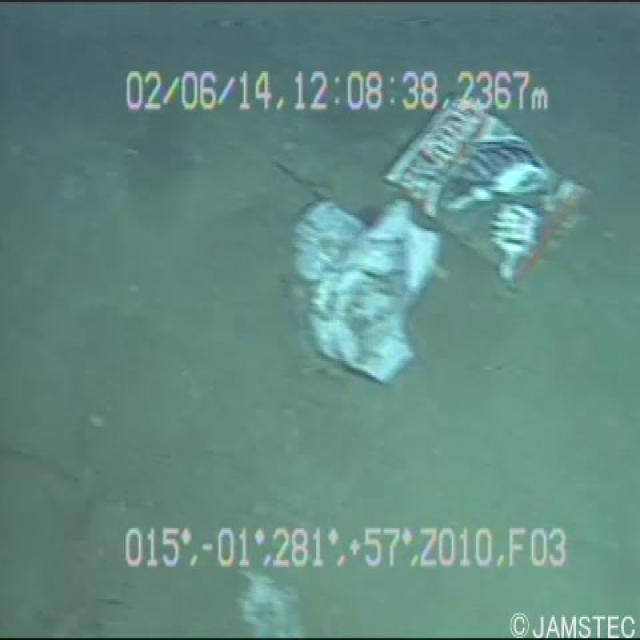plastic: (381, 53, 584, 284), (262, 183, 450, 395)
